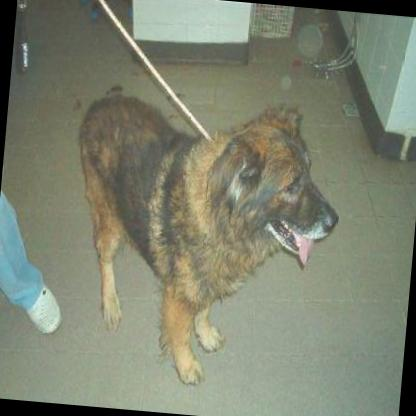Leonberg: (56, 84, 346, 396)
